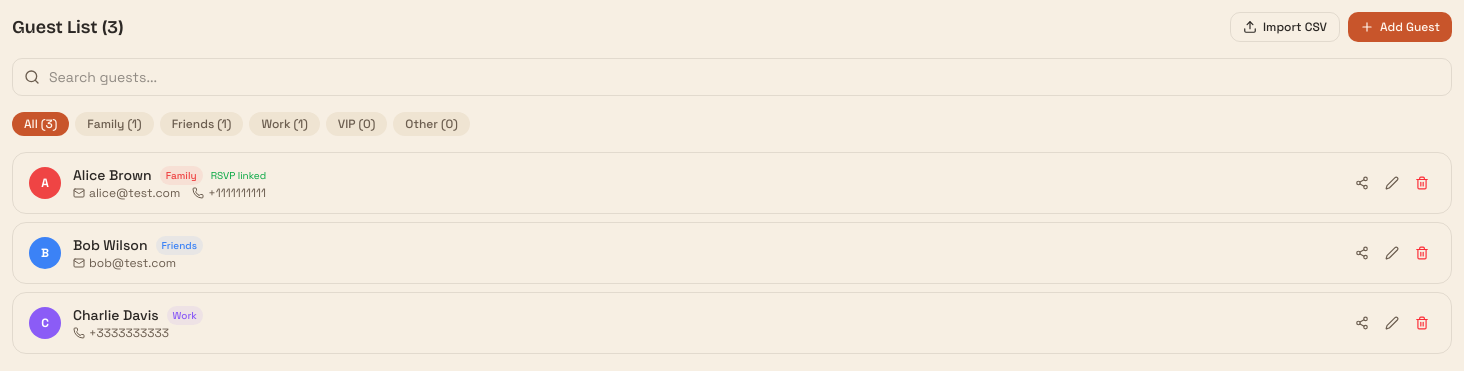
Test: GuestListManager › filters guests by search text
Expected: the element with test id "guest-list" is shown, [12,152,1452,354]
Type "alice" into the field with test id "guest-search". click: (732, 77)
box: [12,58,1452,96]
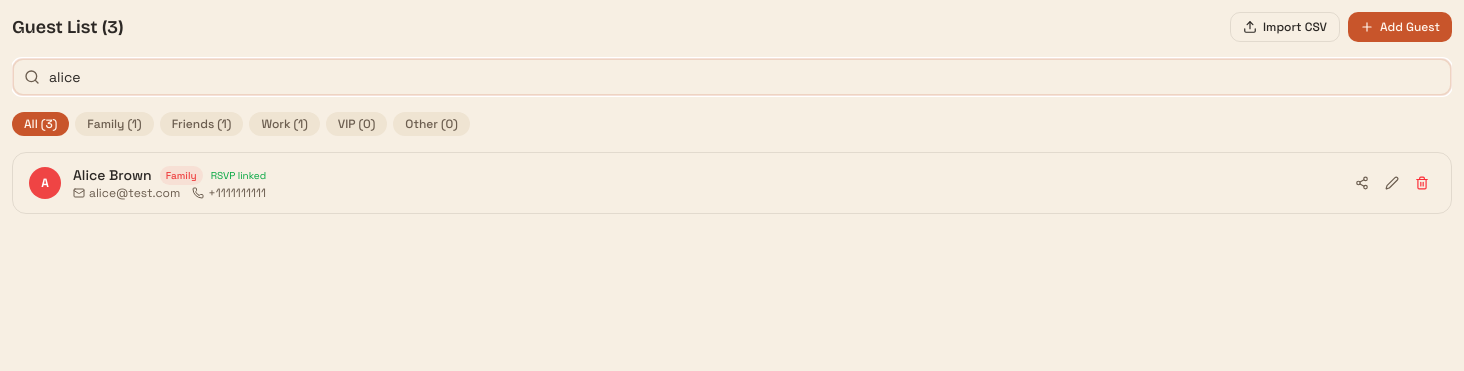
Expected: the element with test id "guest-row-guest-1" is shown, [12,152,1452,214]
Now the element with test id "guest-row-guest-2" is gone
Now the element with test id "guest-row-guest-3" is gone
